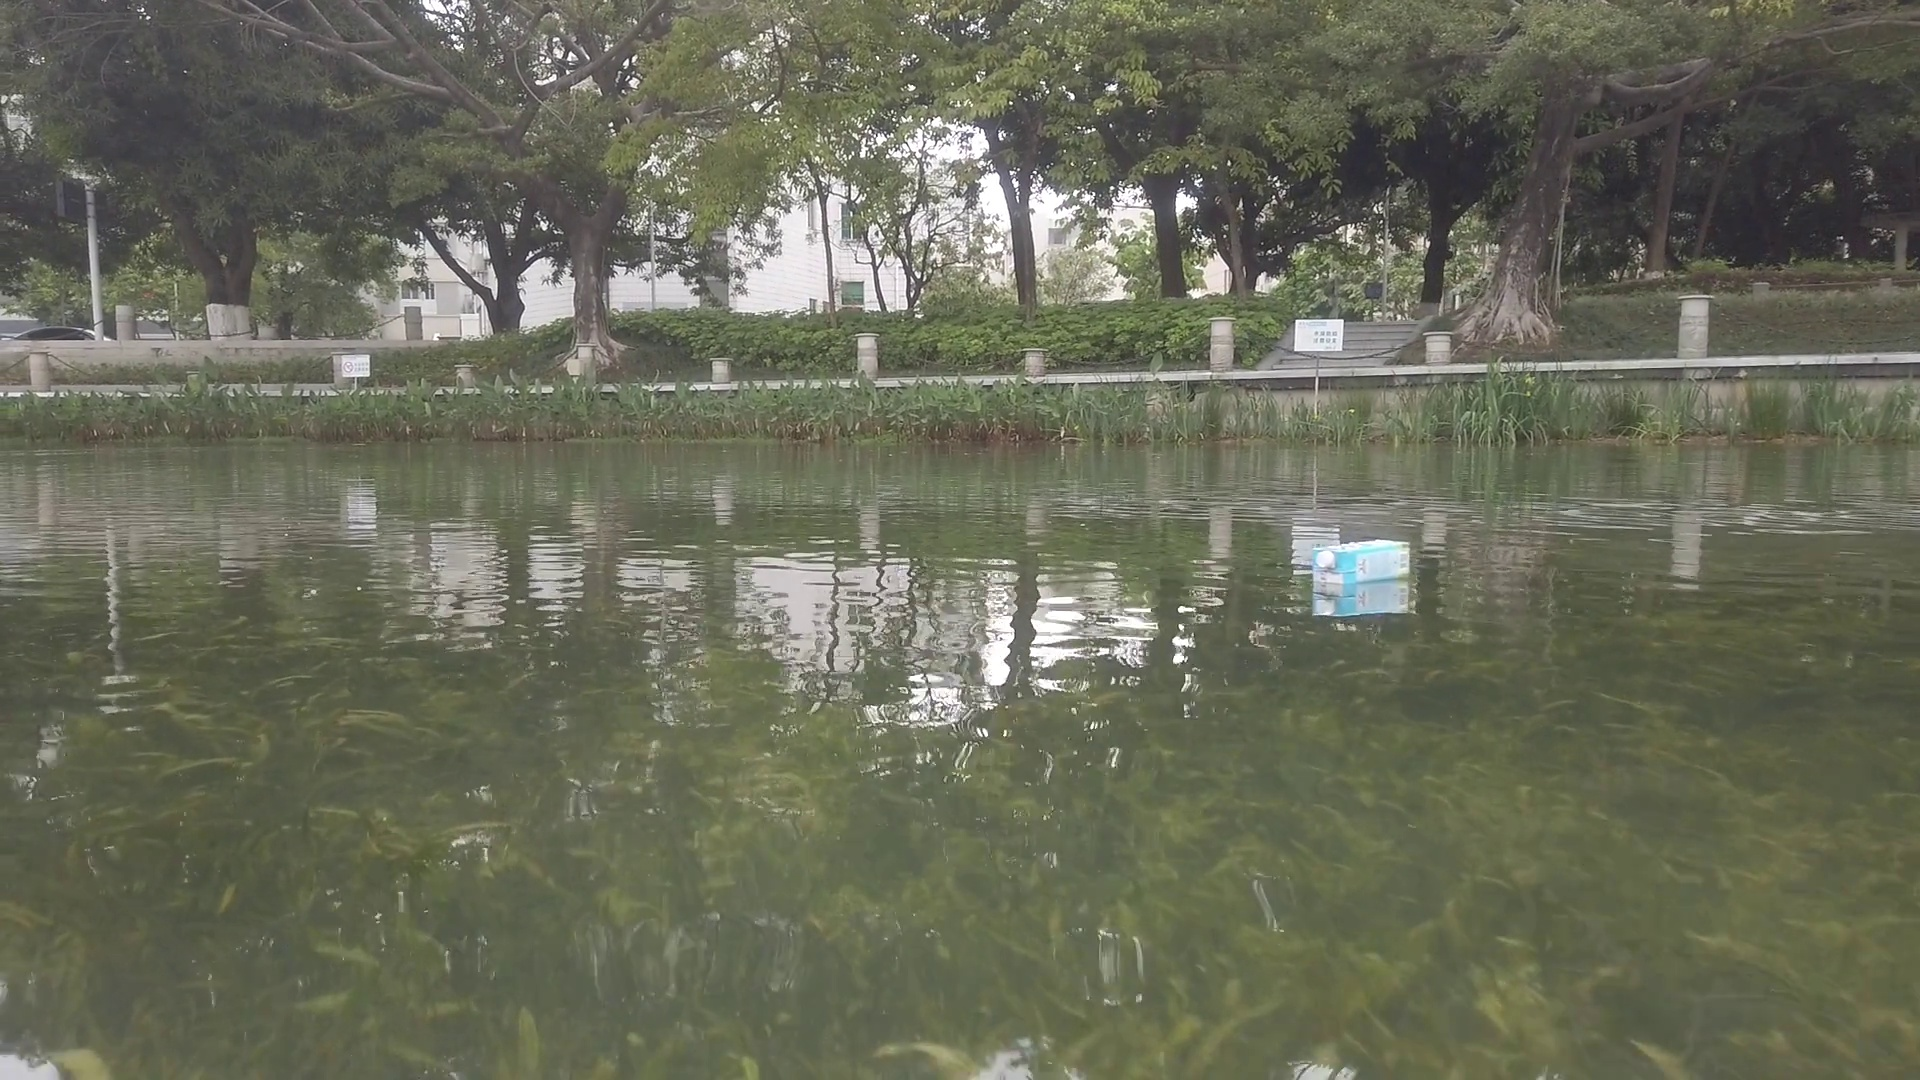carton: (1312, 538, 1412, 585)
